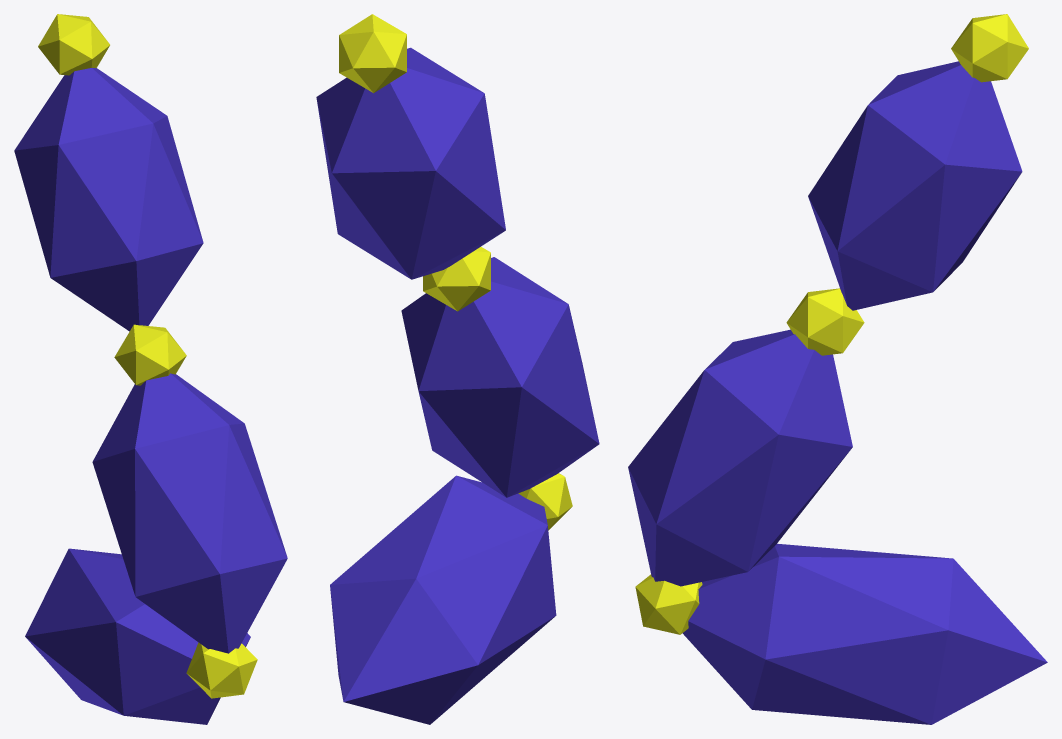
Rendered from streptococcus_pyogenes.obj.
3 renders of one model, left to right at view 1: azimuth 30°, elevation 25°; view 2: azimuth 150°, elevation 25°; view 3: azimuth 270°, elevation 25°, orthographic. The views are drawn at different scales.
Parts seen in each view (by area): view 1: pasted__pPlatonic2, pPlatonic1, pasted__pasted__pPlatonic1 group6, pasted__pasted__pPlatonic3, pasted__pPlatonic3, pasted__pasted__pPlatonic3 pasted__group8 group9; view 2: pasted__pasted__pPlatonic1 group6, pasted__pPlatonic2, pPlatonic1, pasted__pasted__pPlatonic3, pasted__pPlatonic3, pasted__pasted__pPlatonic3 pasted__group8 group9; view 3: pasted__pasted__pPlatonic1 group6, pasted__pPlatonic2, pPlatonic1, pasted__pasted__pPlatonic3, pasted__pPlatonic3, pasted__pasted__pPlatonic3 pasted__group8 group9.
Boxes of the visible parts, x1,y1,x2,y2 form: pasted__pPlatonic2: (92,373,287,653); pPlatonic1: (14,68,203,331); pasted__pasted__pPlatonic1 group6: (25,548,250,724); pasted__pasted__pPlatonic3: (38,14,109,75); pasted__pPlatonic3: (114,324,186,385); pasted__pasted__pPlatonic3 pasted__group8 group9: (186,642,257,698); pasted__pasted__pPlatonic1 group6: (330,475,556,724); pasted__pPlatonic2: (401,257,599,497); pPlatonic1: (316,47,505,279); pasted__pasted__pPlatonic3: (339,14,406,93); pasted__pPlatonic3: (423,247,490,311); pasted__pasted__pPlatonic3 pasted__group8 group9: (518,473,572,530); pasted__pasted__pPlatonic1 group6: (682,543,1047,724); pasted__pPlatonic2: (628,329,852,586); pPlatonic1: (808,61,1022,310); pasted__pasted__pPlatonic3: (951,14,1028,82); pasted__pPlatonic3: (786,288,864,355); pasted__pasted__pPlatonic3 pasted__group8 group9: (635,574,702,634).
Bounding box in the file's own units: 1.79 × 7.73 × 4.17.
1 material, 1 textured.
